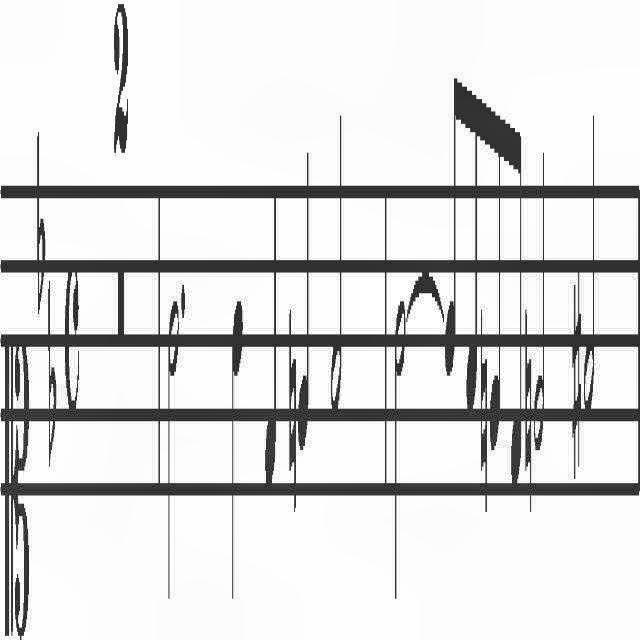Bemol: (36, 113, 46, 325), (47, 264, 57, 476)
Diez: (571, 264, 583, 480)
Eighth-note: (488, 74, 504, 468), (464, 66, 480, 424), (509, 91, 523, 493), (442, 58, 458, 386)
Half-note: (392, 284, 406, 622), (534, 129, 548, 459), (583, 99, 597, 427), (330, 104, 344, 430), (168, 298, 180, 606)
Quarter-note: (263, 178, 277, 510), (231, 286, 245, 610), (298, 137, 310, 459)
